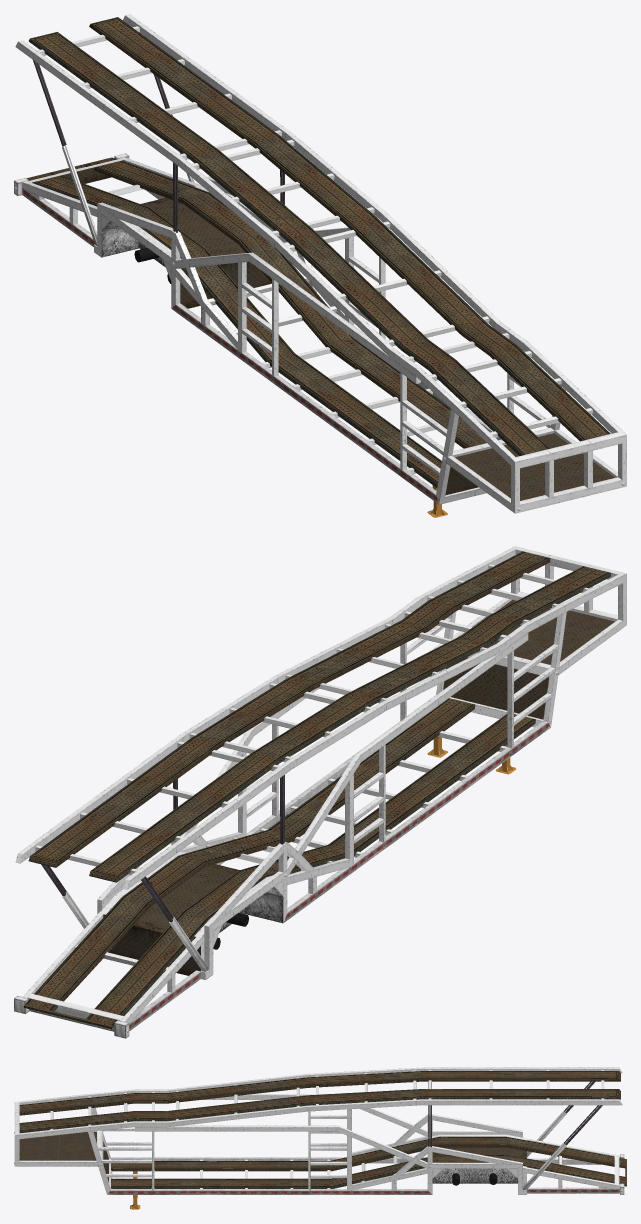
File: cartrailer.dae
3 renders of one model, top to bottom at view 1: azimuth 30°, elevation 25°; view 2: azimuth 150°, elevation 25°; view 3: azimuth 270°, elevation 25°, orthographic. The views are drawn at different scales.
Parts seen in each view (by area): view 1: cartrailer, cartrailer_ramp, cartrailer_rearhydros; view 2: cartrailer, cartrailer_ramp, cartrailer_rearhydros, cartrailer_endramp; view 3: cartrailer, cartrailer_ramp, cartrailer_rearhydros.
Boxes of the visible parts, <box> form: cartrailer: <box>14,153,626,513</box>; cartrailer_ramp: <box>15,14,500,356</box>; cartrailer_rearhydros: <box>33,60,195,245</box>; cartrailer: <box>14,546,626,1038</box>; cartrailer_ramp: <box>15,617,500,889</box>; cartrailer_rearhydros: <box>41,864,207,971</box>; cartrailer_endramp: <box>23,999,117,1029</box>; cartrailer: <box>14,1089,624,1194</box>; cartrailer_ramp: <box>167,1067,622,1126</box>; cartrailer_rearhydros: <box>523,1081,602,1190</box>.
Size of the model in its own units: 2.38 by 18.33 by 3.75.
